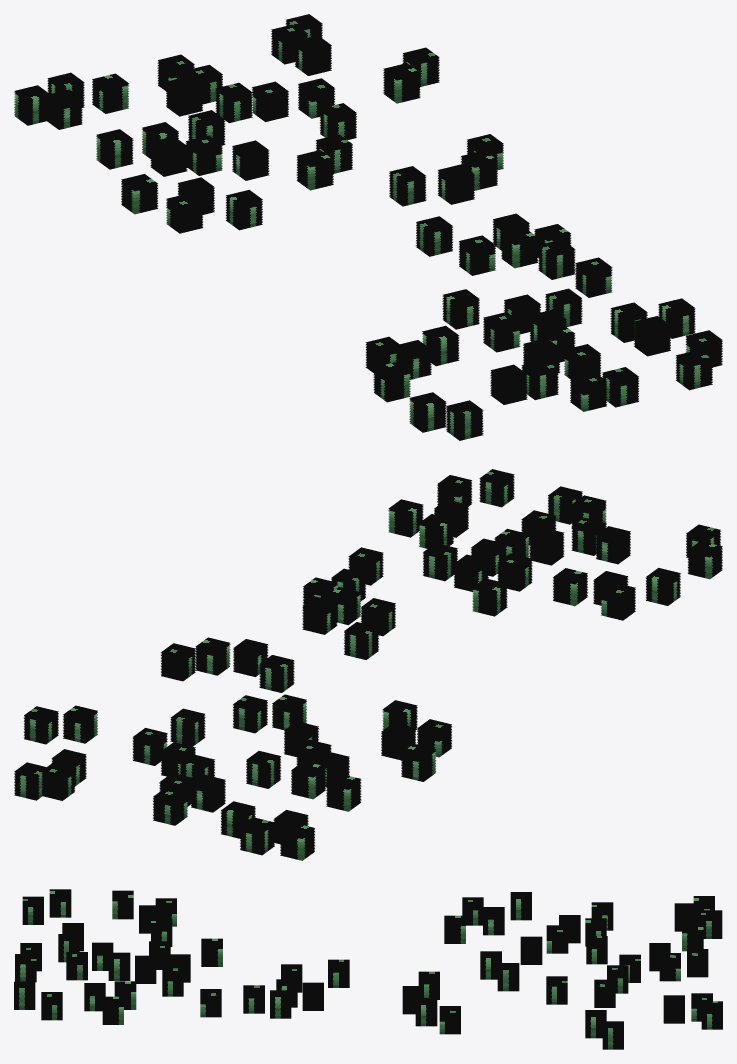
Rendered from swamp-diorama-grasses.gltf.
3 renders of one model, top to bottom at view 1: azimuth 30°, elevation 25°; view 2: azimuth 150°, elevation 25°; view 3: azimuth 270°, elevation 25°, orthographic. The views are drawn at different scales.
Visible parts, largest first — view 1: swamp-grasses-MERGED; view 2: swamp-grasses-MERGED; view 3: swamp-grasses-MERGED.
Boxes of the visible parts, box(x1,y1,x2,y2) form: swamp-grasses-MERGED: box(14, 14, 722, 440); swamp-grasses-MERGED: box(14, 469, 722, 860); swamp-grasses-MERGED: box(14, 889, 722, 1049).
Size of the model in its own units: 7.05 by 0.4482 by 14.94.
1 material, 1 textured.
